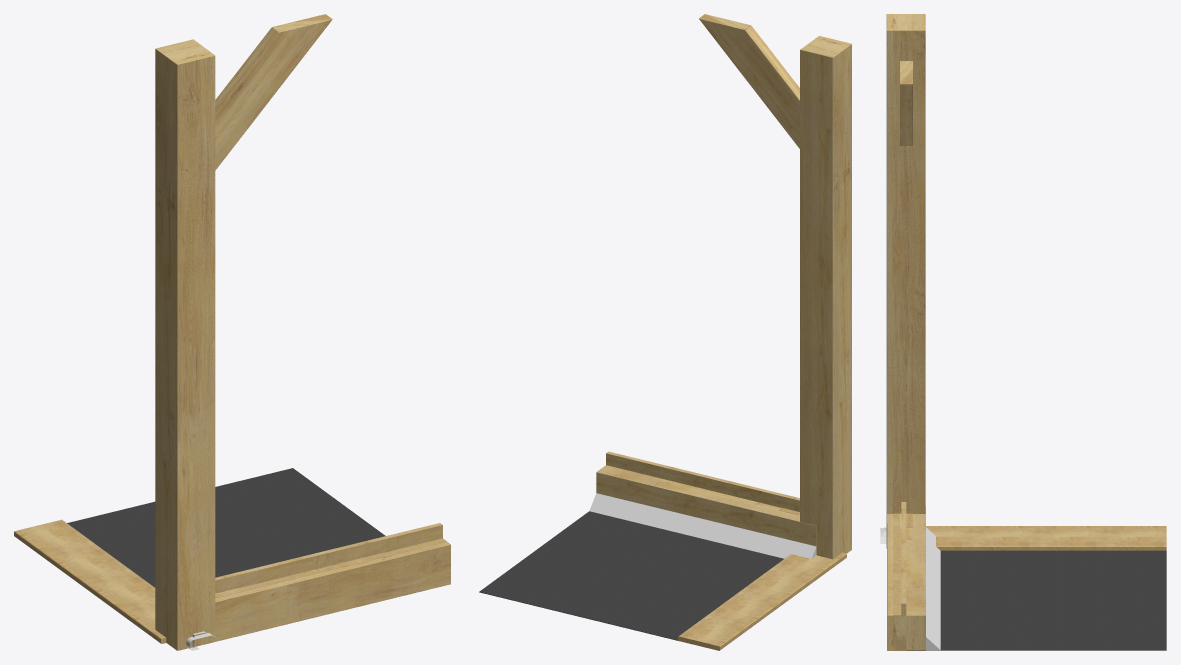
File: Canopy_Models.glb
3 views of the same model, side by side, from view 1: azimuth 30°, elevation 25°; view 2: azimuth 150°, elevation 25°; view 3: azimuth 270°, elevation 25° (orthographic). The views are drawn at different scales.
Parts seen in each view (by area): view 1: balk_150x150x2200, ruberoid_1000x1000x2, balk_150x150x1000, balk_corner, Lodge_20x190x1000_bevel, Lodge_20x200x1000, lodge_150x50x1000; view 2: balk_150x150x2200, ruberoid_1000x1000x2, balk_150x150x1000, Lodge_20x190x1000_bevel, balk_corner, profile_canopy_perimeter_closed, Lodge_20x200x1000; view 3: ruberoid_1000x1000x2, balk_150x150x2200, Lodge_20x190x1000_bevel, balk_150x150x1000, profile_canopy_perimeter_closed, lodge_150x50x1000, balk_corner, Lodge_20x200x1000.
Boxes of the visible parts, left/top/right/bottom form: balk_150x150x2200: left=155, top=39, right=215, bottom=650; ruberoid_1000x1000x2: left=67, top=468, right=385, bottom=587; balk_150x150x1000: left=197, top=542, right=450, bottom=646; balk_corner: left=215, top=14, right=332, bottom=170; Lodge_20x190x1000_bevel: left=14, top=519, right=166, bottom=643; Lodge_20x200x1000: left=215, top=523, right=442, bottom=593; lodge_150x50x1000: left=215, top=538, right=447, bottom=598; balk_150x150x2200: left=800, top=36, right=851, bottom=559; ruberoid_1000x1000x2: left=479, top=511, right=783, bottom=640; balk_150x150x1000: left=596, top=465, right=816, bottom=554; Lodge_20x190x1000_bevel: left=678, top=552, right=846, bottom=650; balk_corner: left=699, top=14, right=799, bottom=148; profile_canopy_perimeter_closed: left=589, top=493, right=816, bottom=558; Lodge_20x200x1000: left=606, top=451, right=799, bottom=511; ruberoid_1000x1000x2: left=906, top=550, right=1166, bottom=650; balk_150x150x2200: left=886, top=14, right=925, bottom=548; Lodge_20x190x1000_bevel: left=926, top=526, right=1166, bottom=550; balk_150x150x1000: left=887, top=506, right=925, bottom=650; profile_canopy_perimeter_closed: left=926, top=527, right=940, bottom=650; lodge_150x50x1000: left=893, top=513, right=906, bottom=650; balk_corner: left=900, top=61, right=912, bottom=145; Lodge_20x200x1000: left=901, top=502, right=906, bottom=615.
Bounding box in the file's own units: 1.1 × 2.2 × 1.1.
4 materials, 3 textured.
